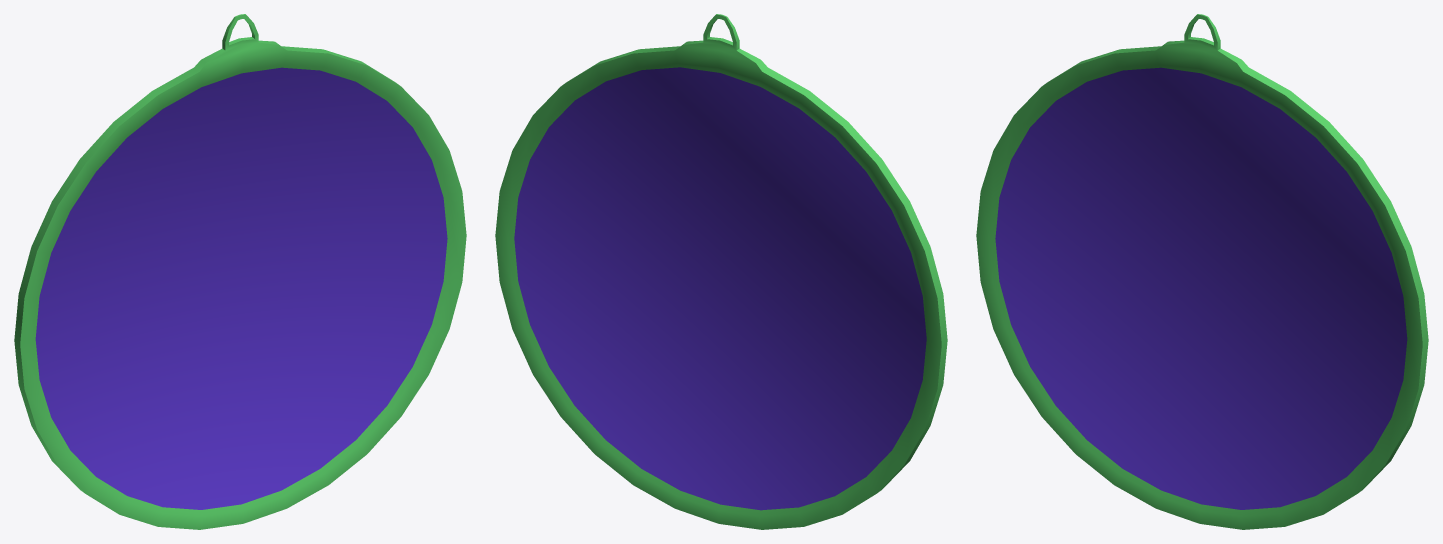
File: Circular Diffuser Transparent.fbx
The picture shows the model from 3 angles, left to right: view 1: azimuth 30°, elevation 25°; view 2: azimuth 150°, elevation 25°; view 3: azimuth 330°, elevation 25°; orthographic projection.
Visible parts, largest first — view 1: Cylinder; view 2: Cylinder; view 3: Cylinder.
Part boxes in pixels (x1,y1,x2,y2): Cylinder: (14,14,466,529); Cylinder: (495,14,947,529); Cylinder: (976,14,1428,529).
Bounding box in the file's own units: 150 × 163 × 3.39.
